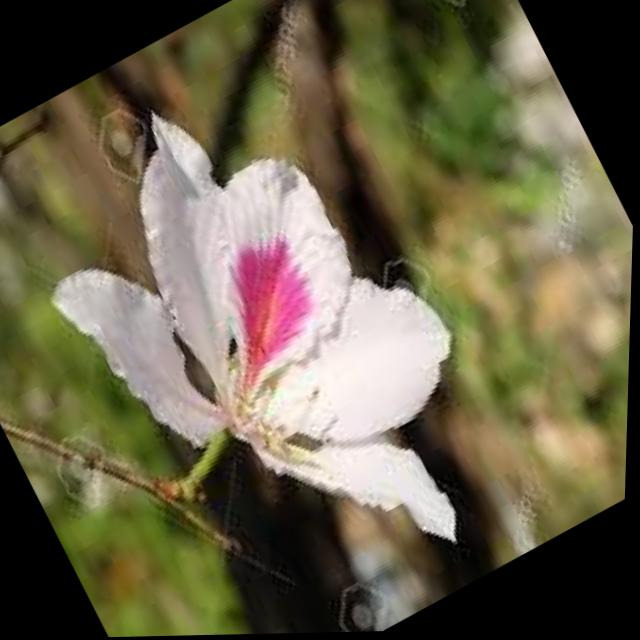Flower: (4, 49, 555, 640)
